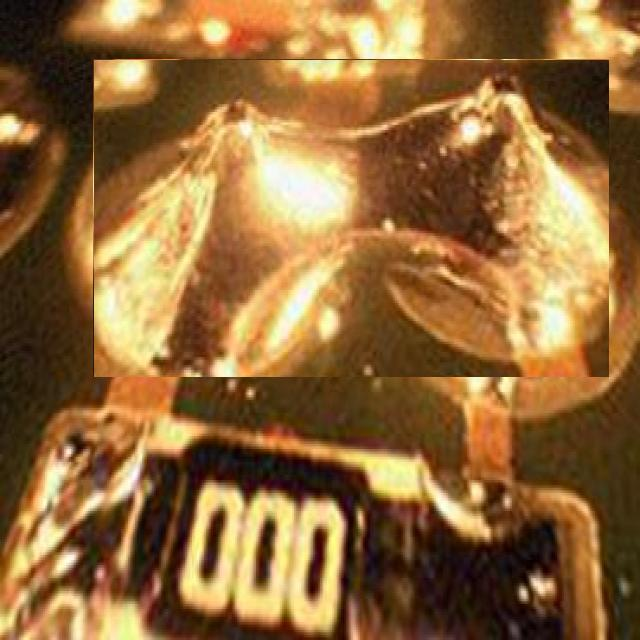Short_circuit: (93, 59, 609, 377)
